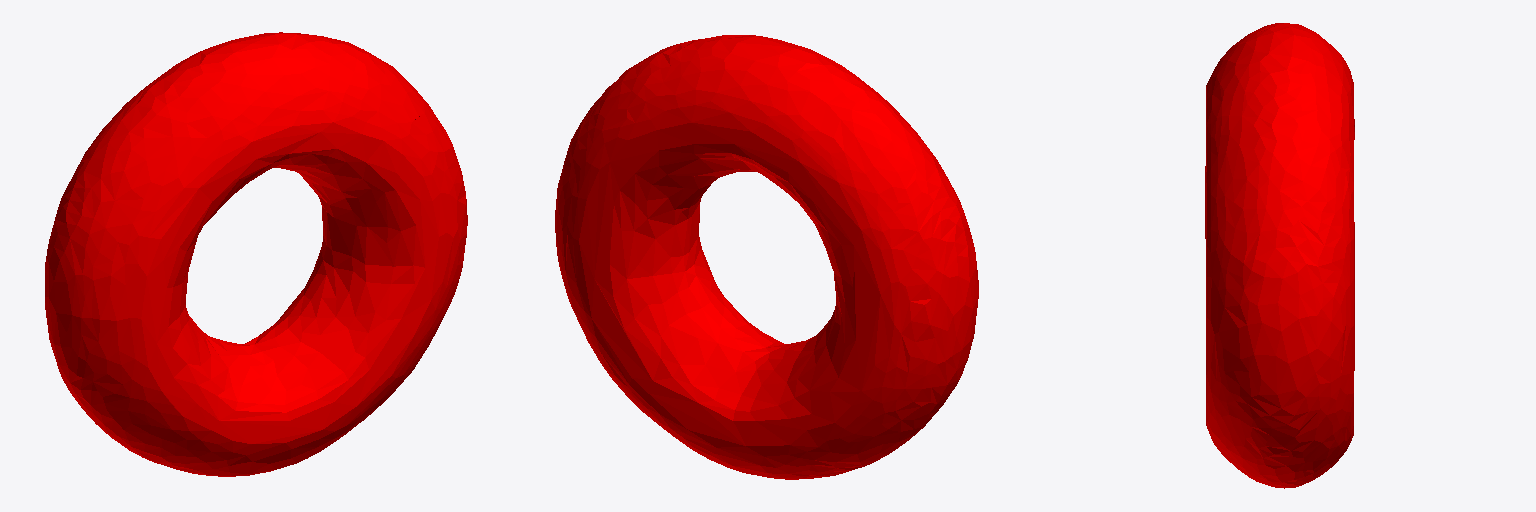
File: donut.obj
3 views of the same model, side by side, from view 1: azimuth 30°, elevation 25°; view 2: azimuth 150°, elevation 25°; view 3: azimuth 270°, elevation 25° (orthographic).
Parts seen in each view (by area): view 1: tmppqutwexf.ply; view 2: tmppqutwexf.ply; view 3: tmppqutwexf.ply.
Boxes of the visible parts, box(x1,y1,x2,y2) form: tmppqutwexf.ply: box(45, 32, 467, 476); tmppqutwexf.ply: box(555, 35, 978, 479); tmppqutwexf.ply: box(1205, 23, 1354, 488).
Size of the model in its own units: 1.97 by 1.98 by 0.6315.